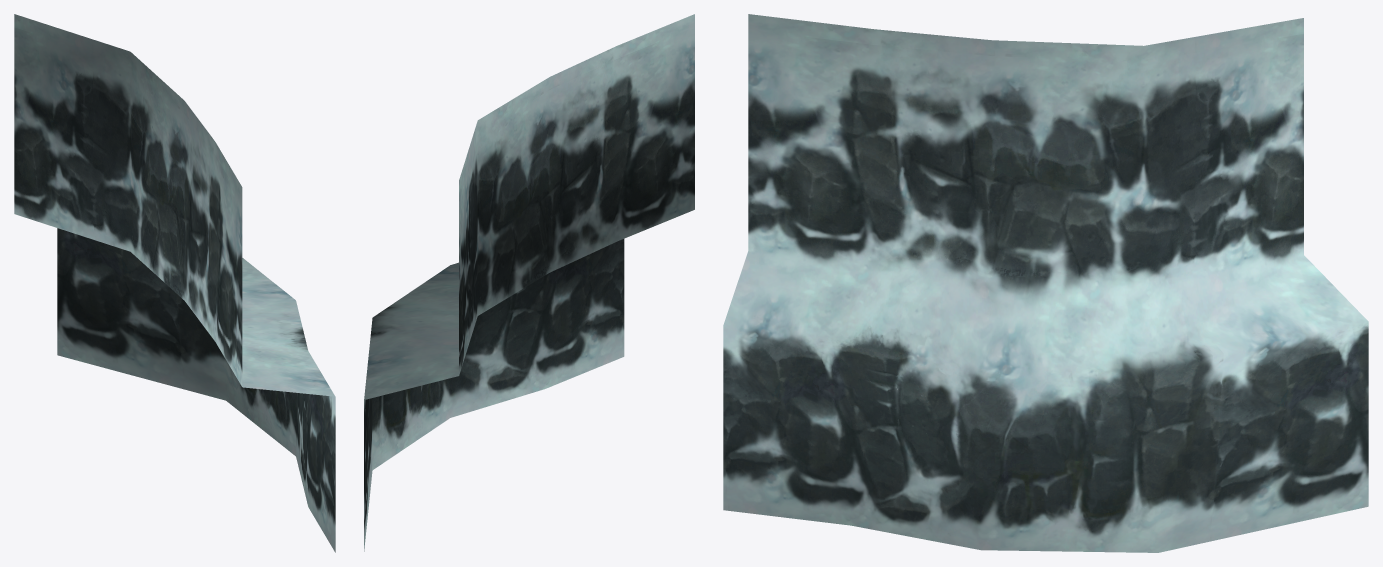
Rendered from section05_guanka07_dimian03.FBX.
3 views of the same model, side by side, from view 1: azimuth 30°, elevation 25°; view 2: azimuth 150°, elevation 25°; view 3: azimuth 270°, elevation 25° (orthographic). The views are drawn at different scales.
Parts seen in each view (by area): view 1: section05_guanka07_dimian03; view 2: section05_guanka07_dimian03; view 3: section05_guanka07_dimian03.
Boxes of the visible parts, x1=… form: section05_guanka07_dimian03: x1=14, y1=14, x2=335, y2=552; section05_guanka07_dimian03: x1=364, y1=14, x2=694, y2=551; section05_guanka07_dimian03: x1=723, y1=14, x2=1368, y2=552.
Bounding box in the file's own units: 18.84 × 56.68 × 43.48.
